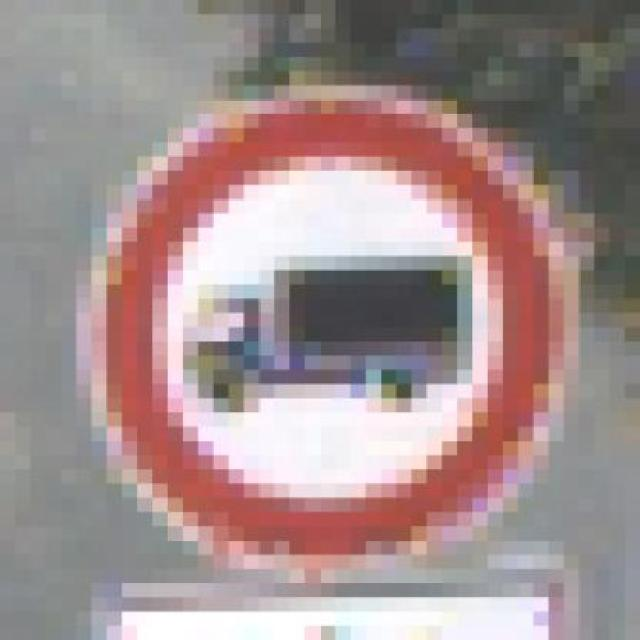Truck traffic is prohibited: (46, 57, 580, 569)
